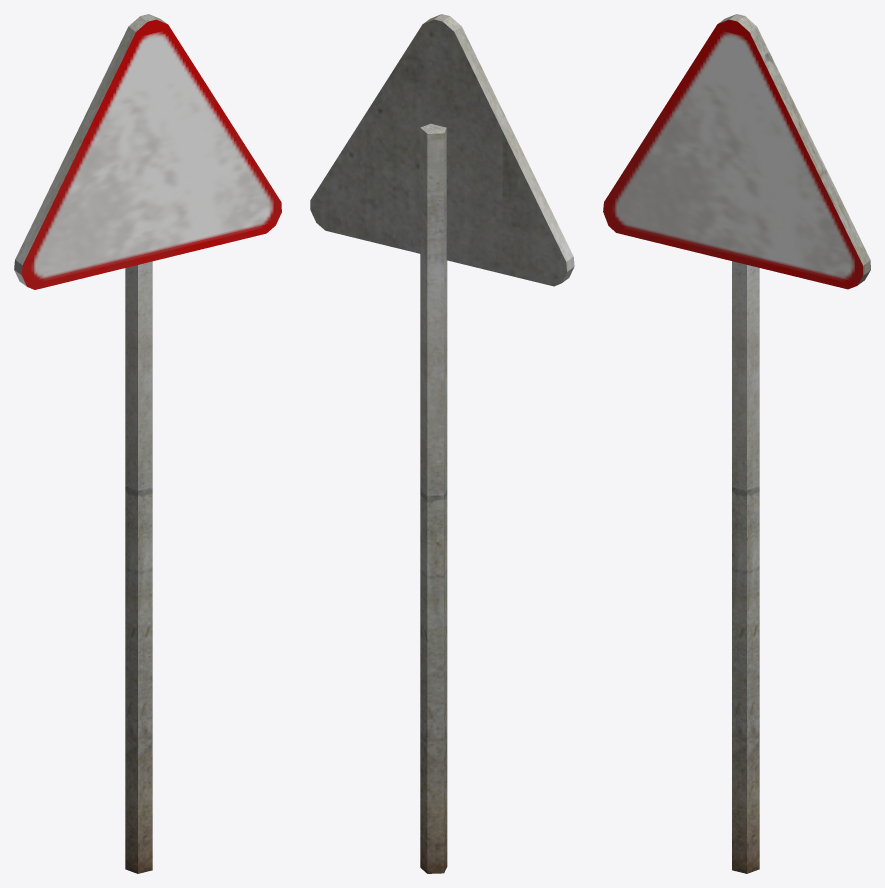
File: triangle.fbx
3 renders of one model, left to right at view 1: azimuth 30°, elevation 25°; view 2: azimuth 150°, elevation 25°; view 3: azimuth 330°, elevation 25°, orthographic.
Visible parts, largest first — view 1: Cylinder.000; view 2: Cylinder.000; view 3: Cylinder.000.
Part boxes in pixels (x1=…): Cylinder.000: x1=14, y1=14, x2=281, y2=873; Cylinder.000: x1=310, y1=14, x2=574, y2=873; Cylinder.000: x1=603, y1=14, x2=870, y2=873.
Bounding box in the file's own units: 156 × 489 × 19.8.
